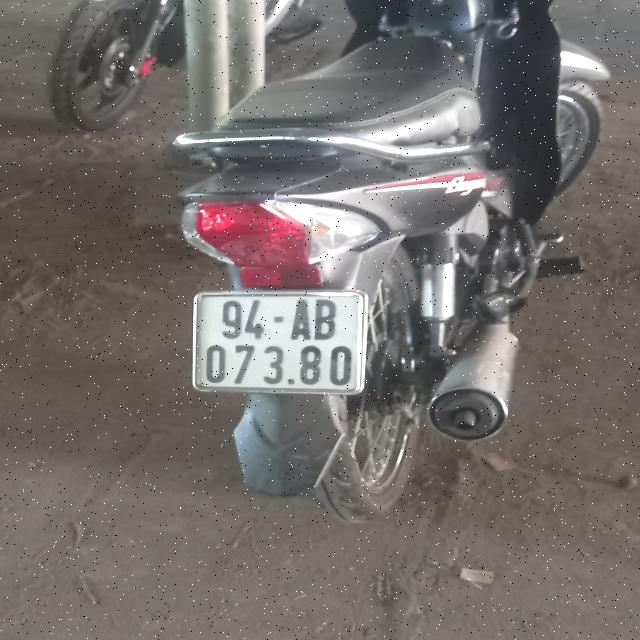0: (330, 345, 353, 386), (207, 345, 226, 383)
3: (264, 346, 283, 384)
4: (245, 300, 264, 338)
7: (234, 345, 254, 383)
8: (301, 345, 321, 385)
9: (222, 300, 242, 339)
A: (290, 300, 310, 340)
B: (314, 299, 336, 342)
